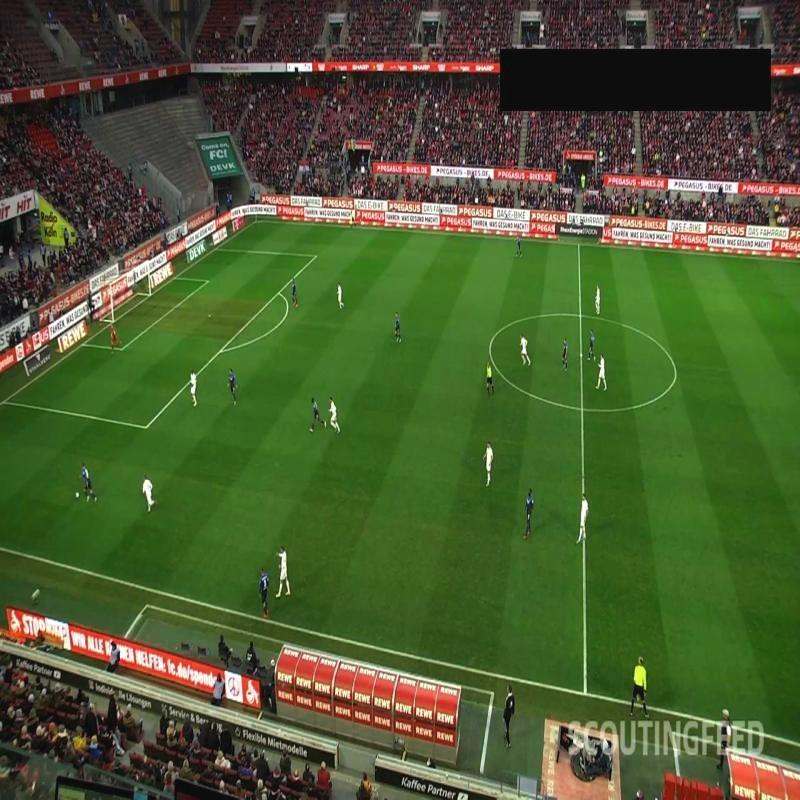1: (250, 214, 264, 228)
10: (272, 284, 286, 298)
11: (213, 342, 227, 356)
12: (139, 420, 153, 435)
13: (572, 237, 586, 250)
14: (574, 309, 588, 323)
15: (575, 402, 589, 416)
16: (578, 687, 593, 701)
2: (208, 242, 222, 255)
3: (166, 271, 181, 285)
4: (76, 336, 90, 350)
5: (0, 394, 9, 410)
7: (201, 273, 215, 287)
8: (115, 340, 129, 354)
9: (308, 248, 322, 262)
c: (667, 362, 681, 376), (482, 338, 496, 352)
